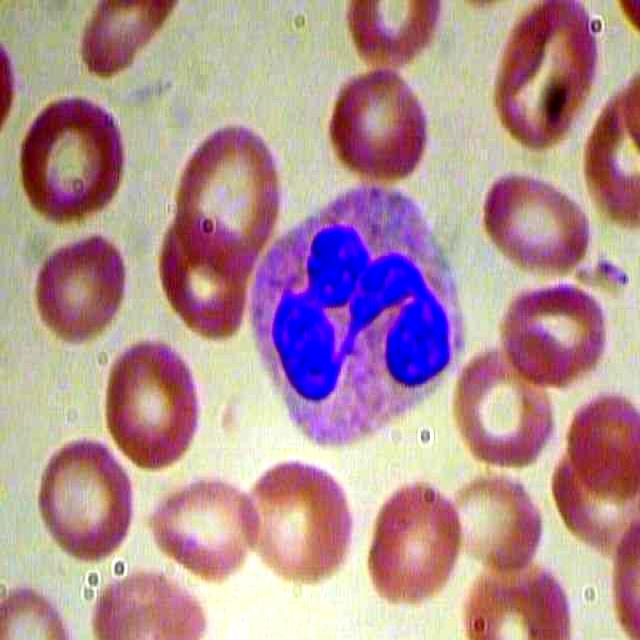RBC: (173, 111, 294, 288), (483, 1, 597, 156), (362, 464, 468, 611), (95, 338, 205, 473), (18, 90, 133, 218), (242, 461, 358, 587), (24, 436, 138, 564), (452, 328, 552, 472), (323, 62, 433, 190), (473, 170, 597, 278), (20, 224, 129, 345), (494, 284, 617, 387), (151, 466, 264, 578), (442, 471, 543, 581)
WBC: (240, 168, 465, 460)
